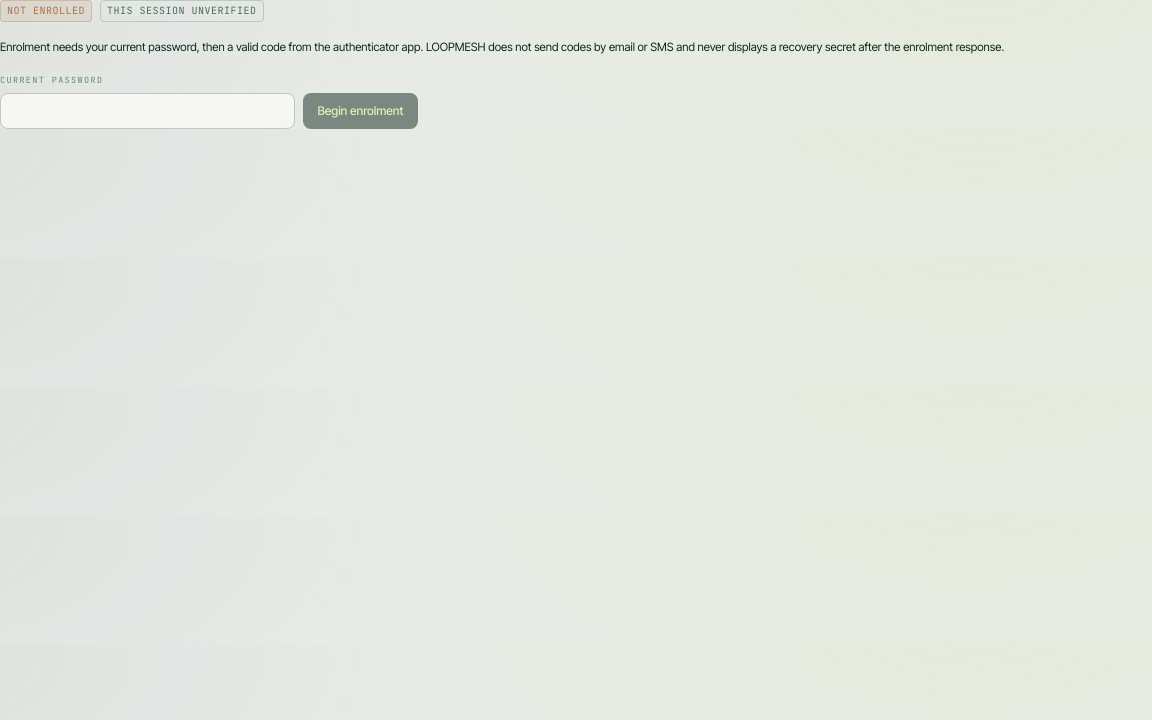
operator MFA › shows the enrolment secret and recovery codes once
Type "CorrectHorse!1" into the password field labelled "Current password". click: (148, 111)
box: [0, 93, 295, 129]
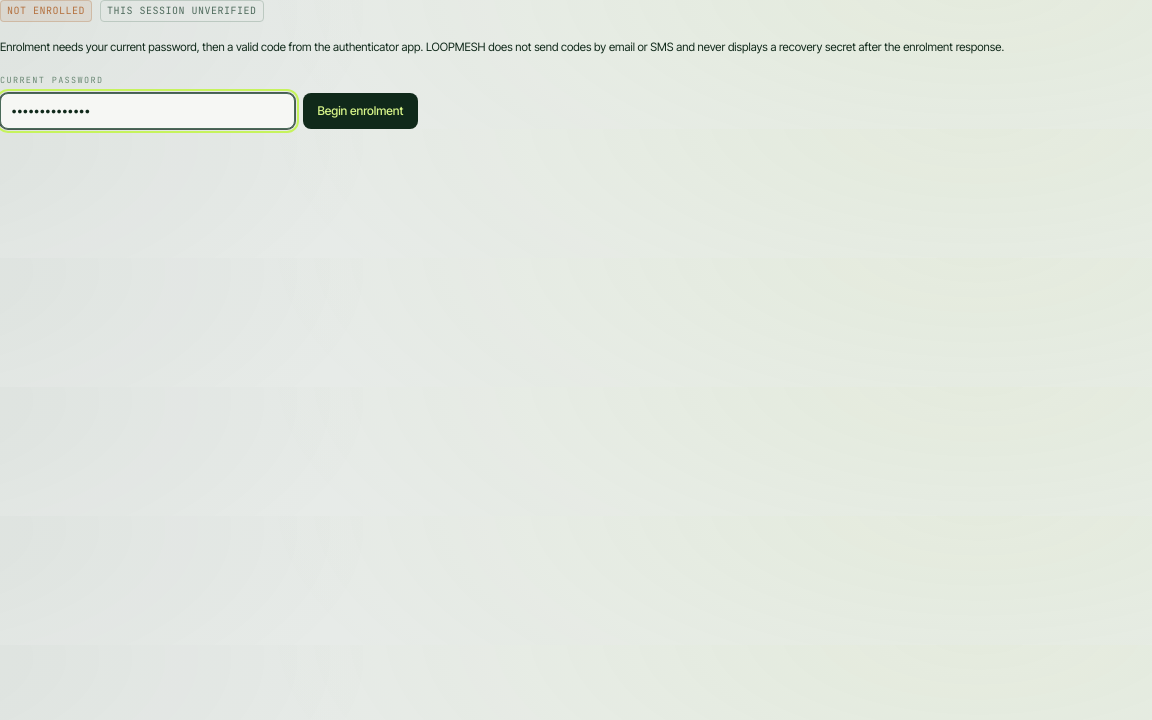
Click the button "Begin enrolment". click: click(360, 111)
box: [303, 93, 418, 129]
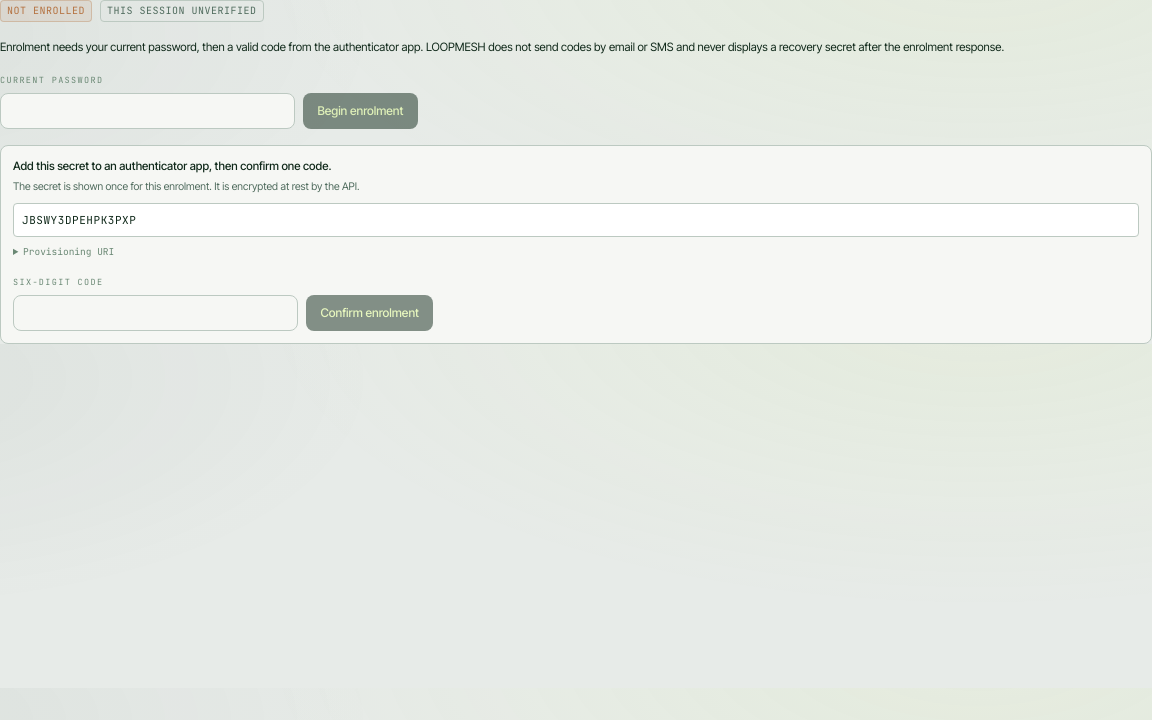
Check: the text "JBSWY3DPEHPK3PXP" is shown, box [13, 203, 1139, 237]
Type "123456" into the field labelled "Six-digit code". click: (156, 313)
box: [13, 295, 298, 331]
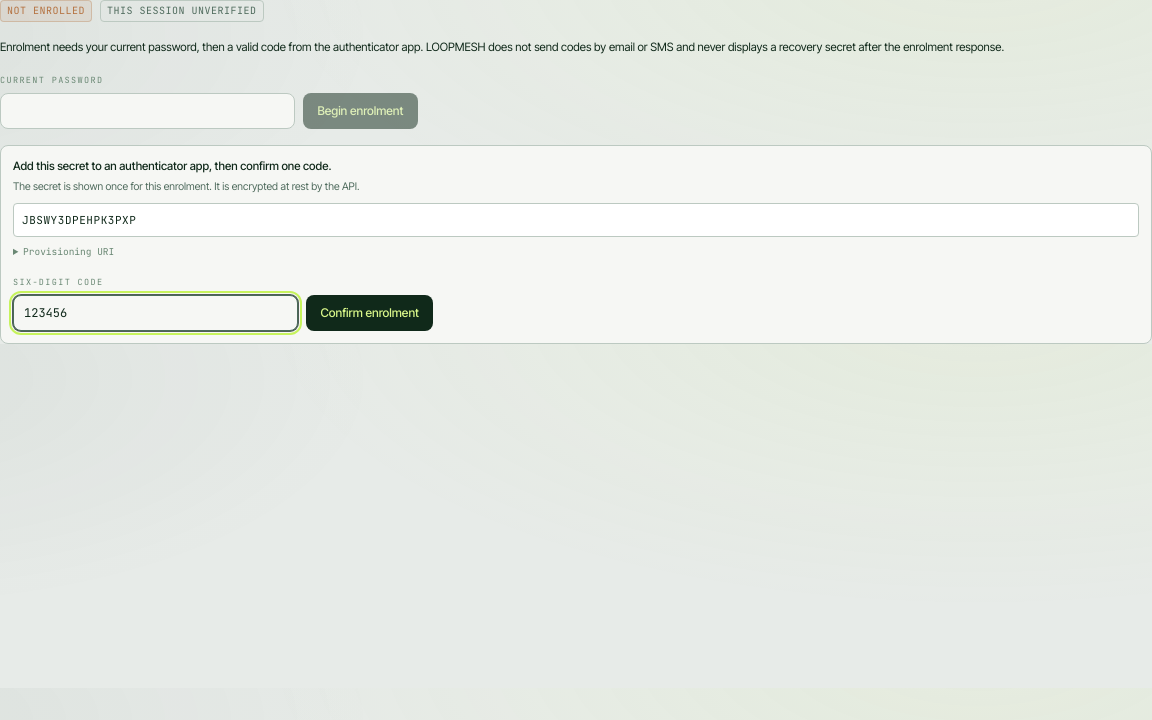
Click the button "Confirm enrolment". click: click(370, 313)
box: [306, 295, 433, 331]
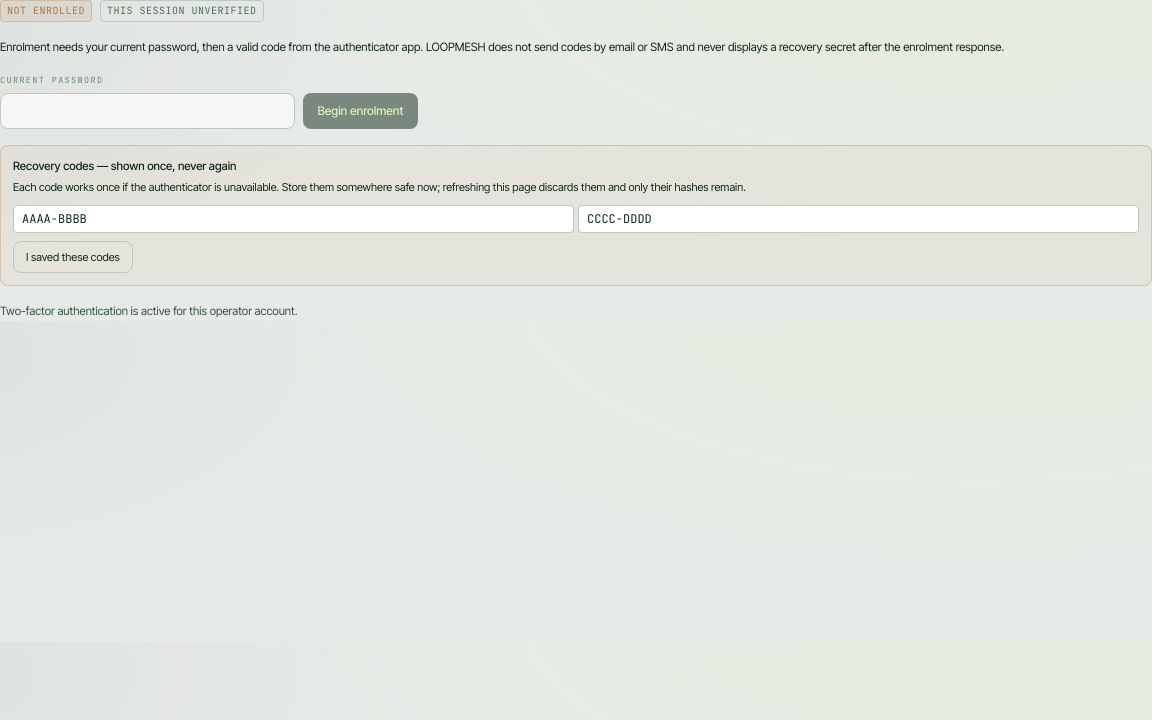
Check: the list item "AAAA-BBBB" is shown, box [13, 205, 574, 233]
Check: the text "Recovery codes — shown once, never again" is shown, box [13, 159, 236, 173]
Click the button "I saved these codes". click: click(73, 257)
box: [13, 241, 133, 273]
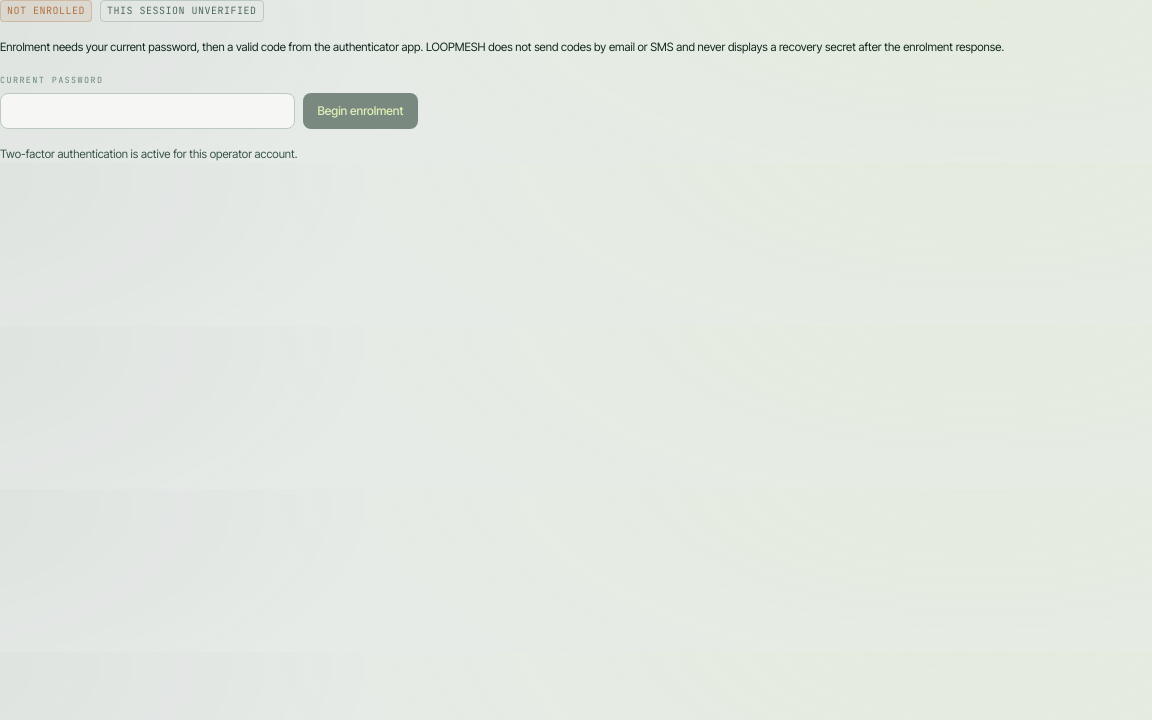
Check: the list item "AAAA-BBBB" is gone
